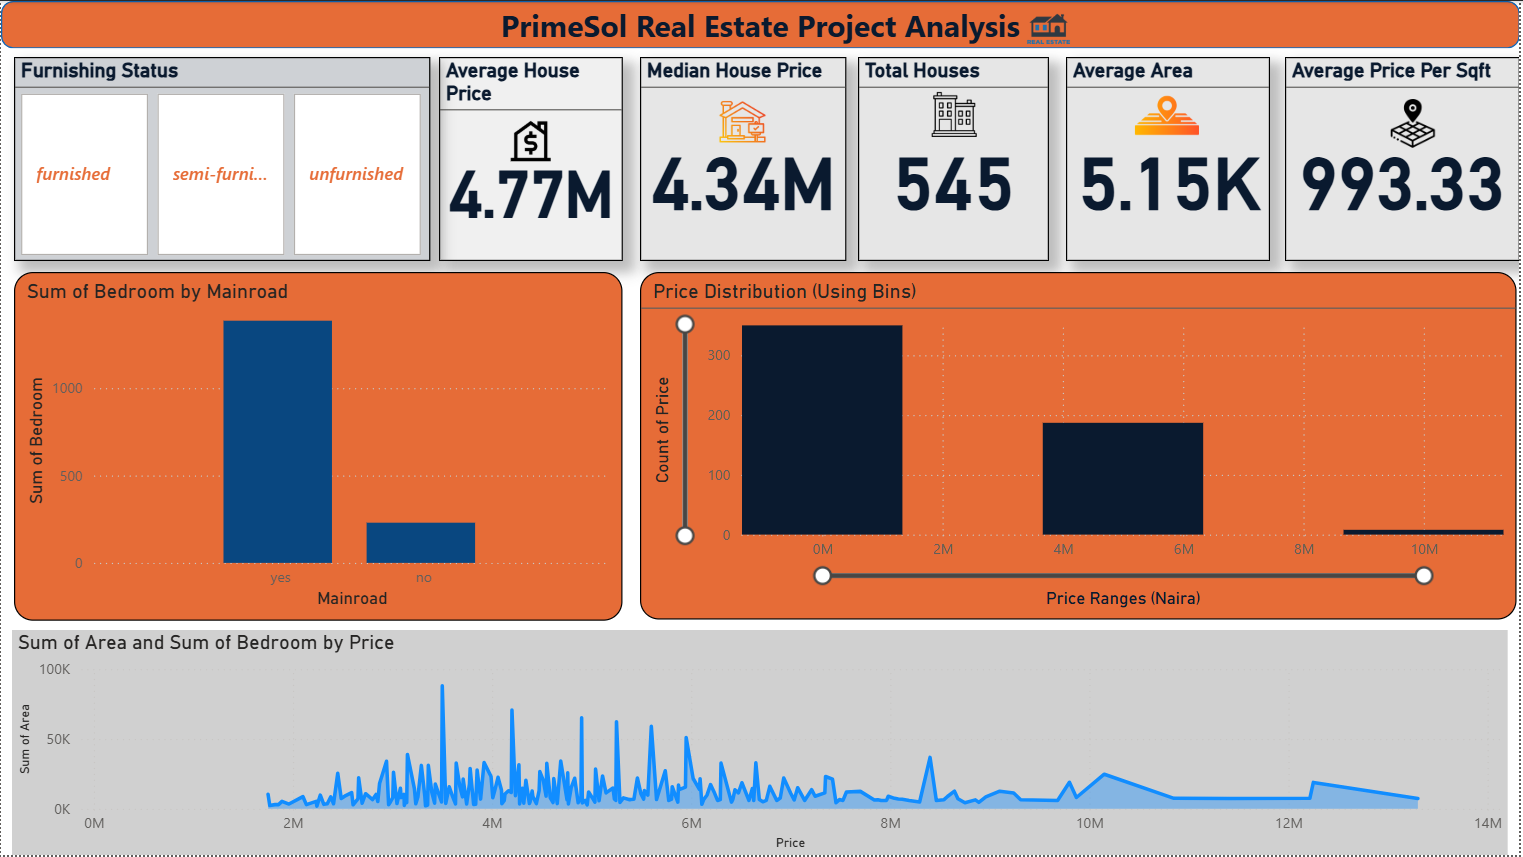

Layout of this report page (visuals, bound fields, positions):
{"tool":"powerbi","page":{"name":"Page 1","canvas":[1280,720],"ordinal":0},"visuals":[{"type":"card","title":"Average House Price","fields":{"Values":["Realtors Data.Average Price"]},"box":[369.1,47.2,155.1,172.3],"z":0},{"type":"card","title":"Median House Price","fields":{"Values":["Realtors Data.Median Price"]},"box":[538.6,47.2,174.1,172.3],"z":1000},{"type":"card","title":"Total Houses","fields":{"Values":["Realtors Data.Total Houses"]},"box":[722.7,47.2,160.5,172.3],"z":2000},{"type":"card","title":"Average Area","fields":{"Values":["Realtors Data.Average Area"]},"box":[897.7,47.2,172.3,172.3],"z":3000},{"type":"card","title":"Average Price Per Sqft","fields":{"Values":["Realtors Data.Average Price per sqft"]},"box":[1082.7,47.2,197.7,172.3],"z":4000},{"type":"clusteredColumnChart","title":"Price Distribution (Using Bins)","fields":{"Category":["Realtors Data.Price (bins) (bins)"],"Y":["CountNonNull(Realtors Data.Price)"]},"box":[538.7,228.5,739.4,293.4],"z":5000},{"type":"areaChart","fields":{"Y":["Sum(Realtors Data.Area)"],"Category":["Realtors Data.Price","Realtors Data.Furnishing Status"]},"box":[9.5,530.5,1261,189.8],"z":6000},{"type":"shape","box":[0,0,1280.4,39.9],"z":7000},{"type":"image","box":[856,0,55.3,47.2],"z":8000},{"type":"image","box":[415.3,96.1,62.6,44.4],"z":9000},{"type":"image","box":[590.3,77.1,70.7,49.9],"z":10000},{"type":"image","box":[775.3,71.6,56.2,48.1],"z":11000},{"type":"image","box":[1161.6,71.6,57.1,63.5],"z":12000},{"type":"image","box":[951.2,62.6,64.4,67.1],"z":13000},{"type":"advancedSlicerVisual","fields":{"Values":["Realtors Data.Furnishing Status"]},"box":[10.9,47.2,350.9,172.3],"z":14000},{"type":"columnChart","fields":{"Category":["Realtors Data.Mainroad"],"Y":["Sum(Realtors Data.Bedroom)"]},"box":[11,228.5,513.4,294.2],"z":15000}]}

Visuals, with their boxes in screenshot pixels (x1, y1, x2, y2), scaled from the page's 1280x720 canvas onto the 1523x857 screenshot:
"Average House Price" card: locate(439, 56, 624, 261)
"Median House Price" card: locate(641, 56, 848, 261)
"Total Houses" card: locate(860, 56, 1051, 261)
"Average Area" card: locate(1068, 56, 1273, 261)
"Average Price Per Sqft" card: locate(1288, 56, 1522, 261)
"Price Distribution (Using Bins)" clusteredColumnChart: locate(641, 272, 1521, 621)
areaChart - Sum(Realtors Data.Area) x Realtors Data.Price: locate(11, 631, 1512, 856)
shape: locate(0, 0, 1522, 47)
image: locate(1019, 0, 1084, 56)
image: locate(494, 114, 569, 167)
image: locate(702, 92, 786, 151)
image: locate(922, 85, 989, 142)
image: locate(1382, 85, 1450, 161)
image: locate(1132, 75, 1208, 154)
advancedSlicerVisual - Realtors Data.Furnishing Status: locate(13, 56, 430, 261)
columnChart - Realtors Data.Mainroad x Sum(Realtors Data.Bedroom): locate(13, 272, 624, 622)
